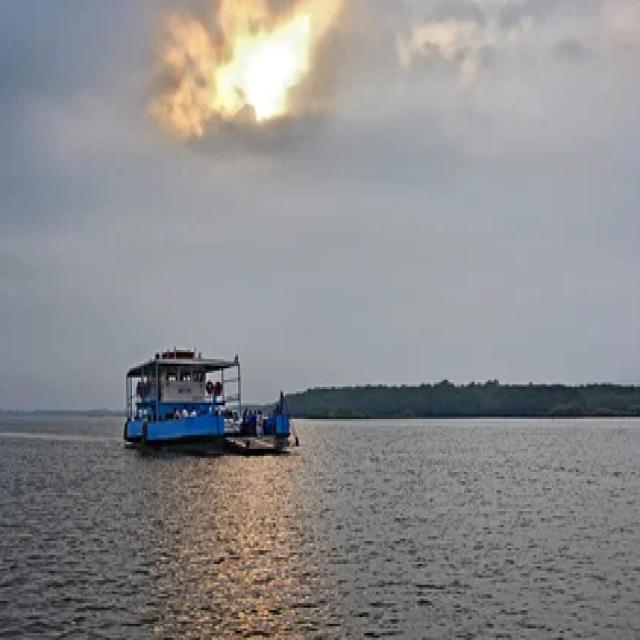fishing boat: (108, 324, 297, 458)
